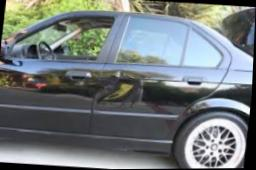Door: (85, 63, 157, 134)
